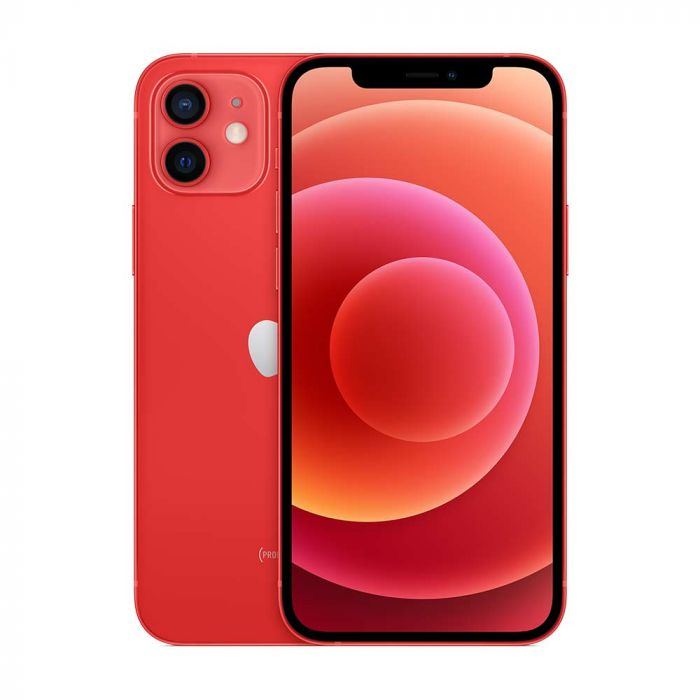-iphone12: (116, 44, 583, 660)
